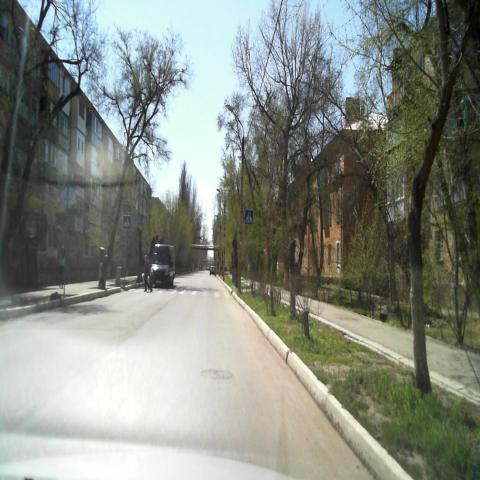5_19_1: (123, 215, 131, 229)
